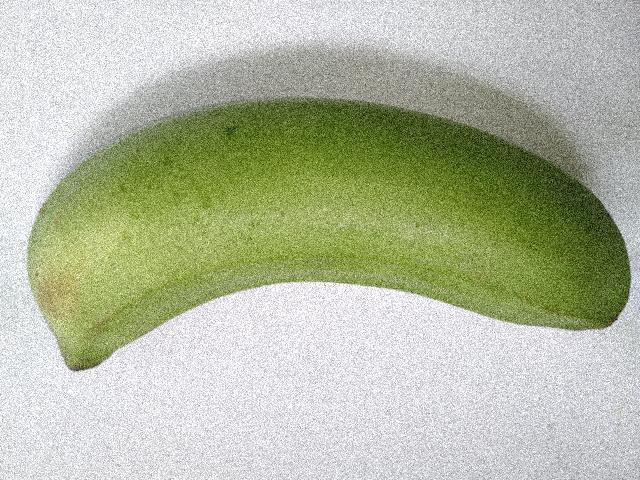freshunripe: (8, 88, 639, 377)
